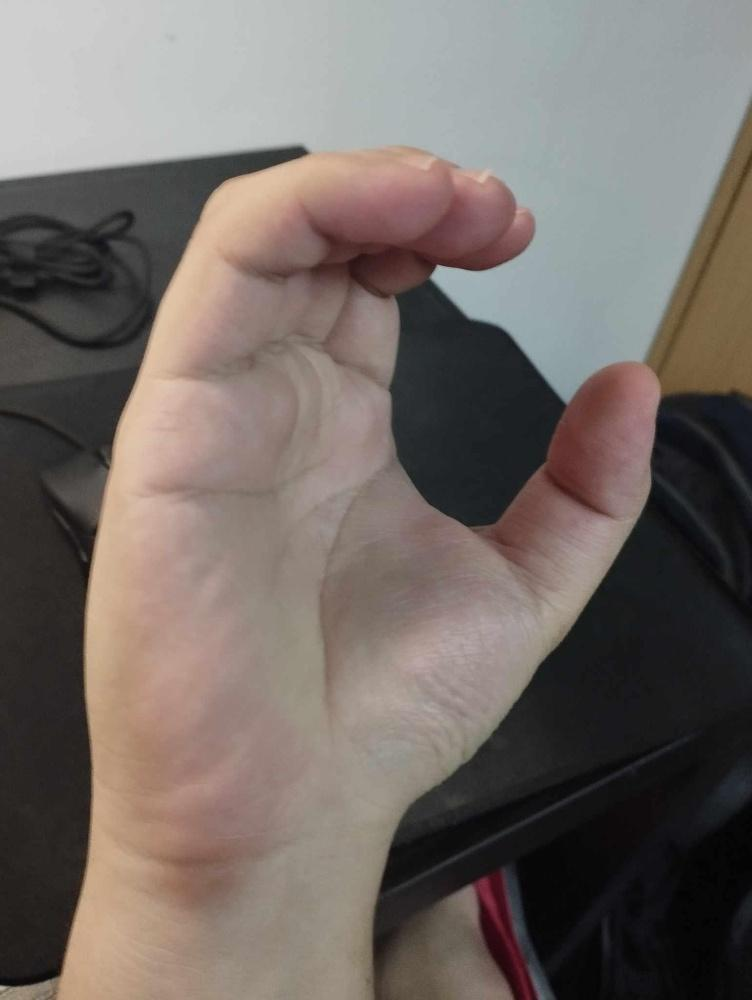c: (79, 139, 663, 867)
